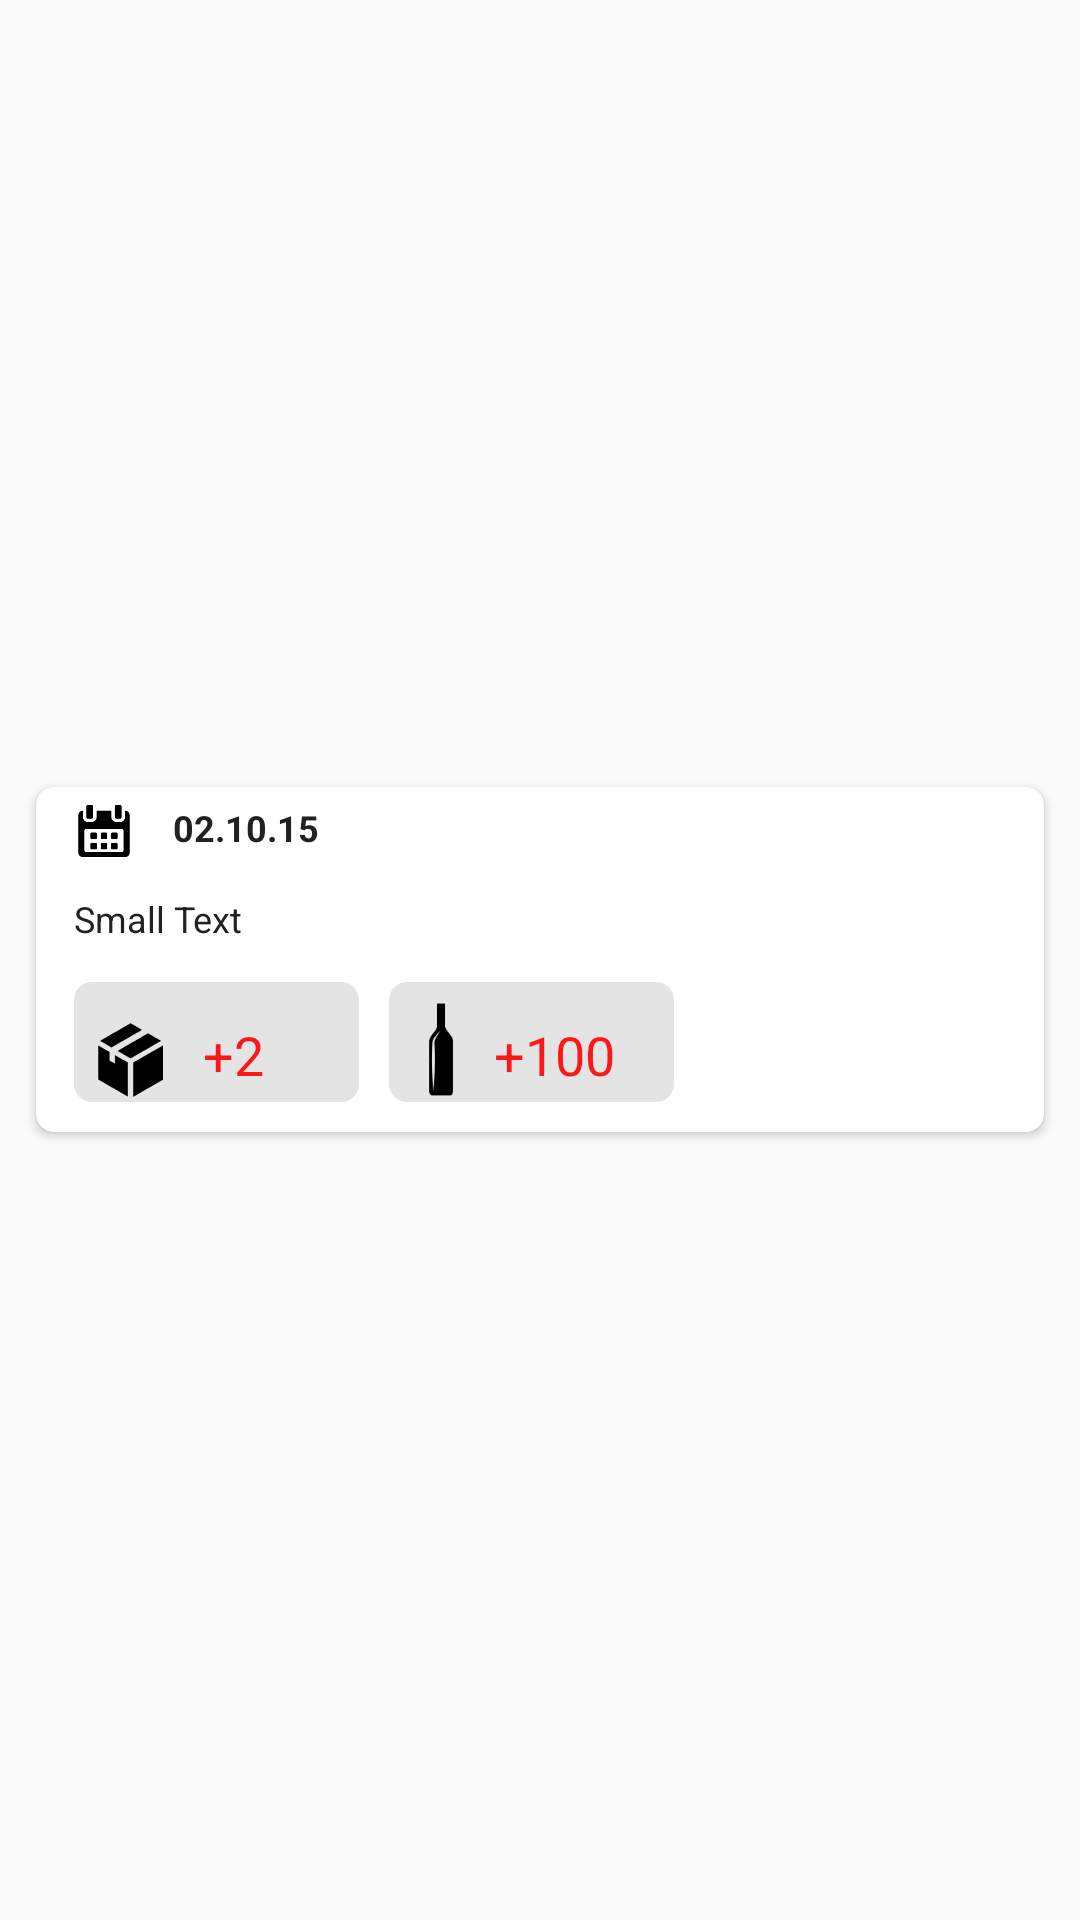

Icon click points for this 1080x1920 phone screenshot, format (x=x, y=y):
box: (x=130, y=1060)
calendar: (x=104, y=831)
wine _in_list: (x=441, y=1042)
